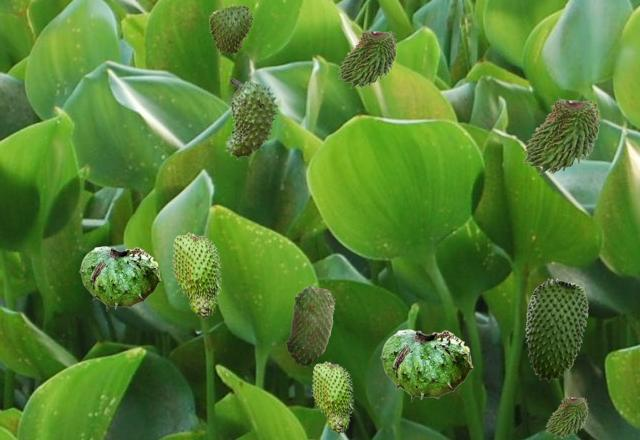guyabano: (380, 329, 472, 401), (525, 278, 587, 381), (522, 96, 599, 173), (79, 246, 160, 310), (224, 78, 279, 159), (171, 232, 221, 318), (286, 285, 334, 366), (337, 28, 396, 87), (311, 361, 353, 433), (209, 4, 253, 54), (545, 395, 587, 437)
